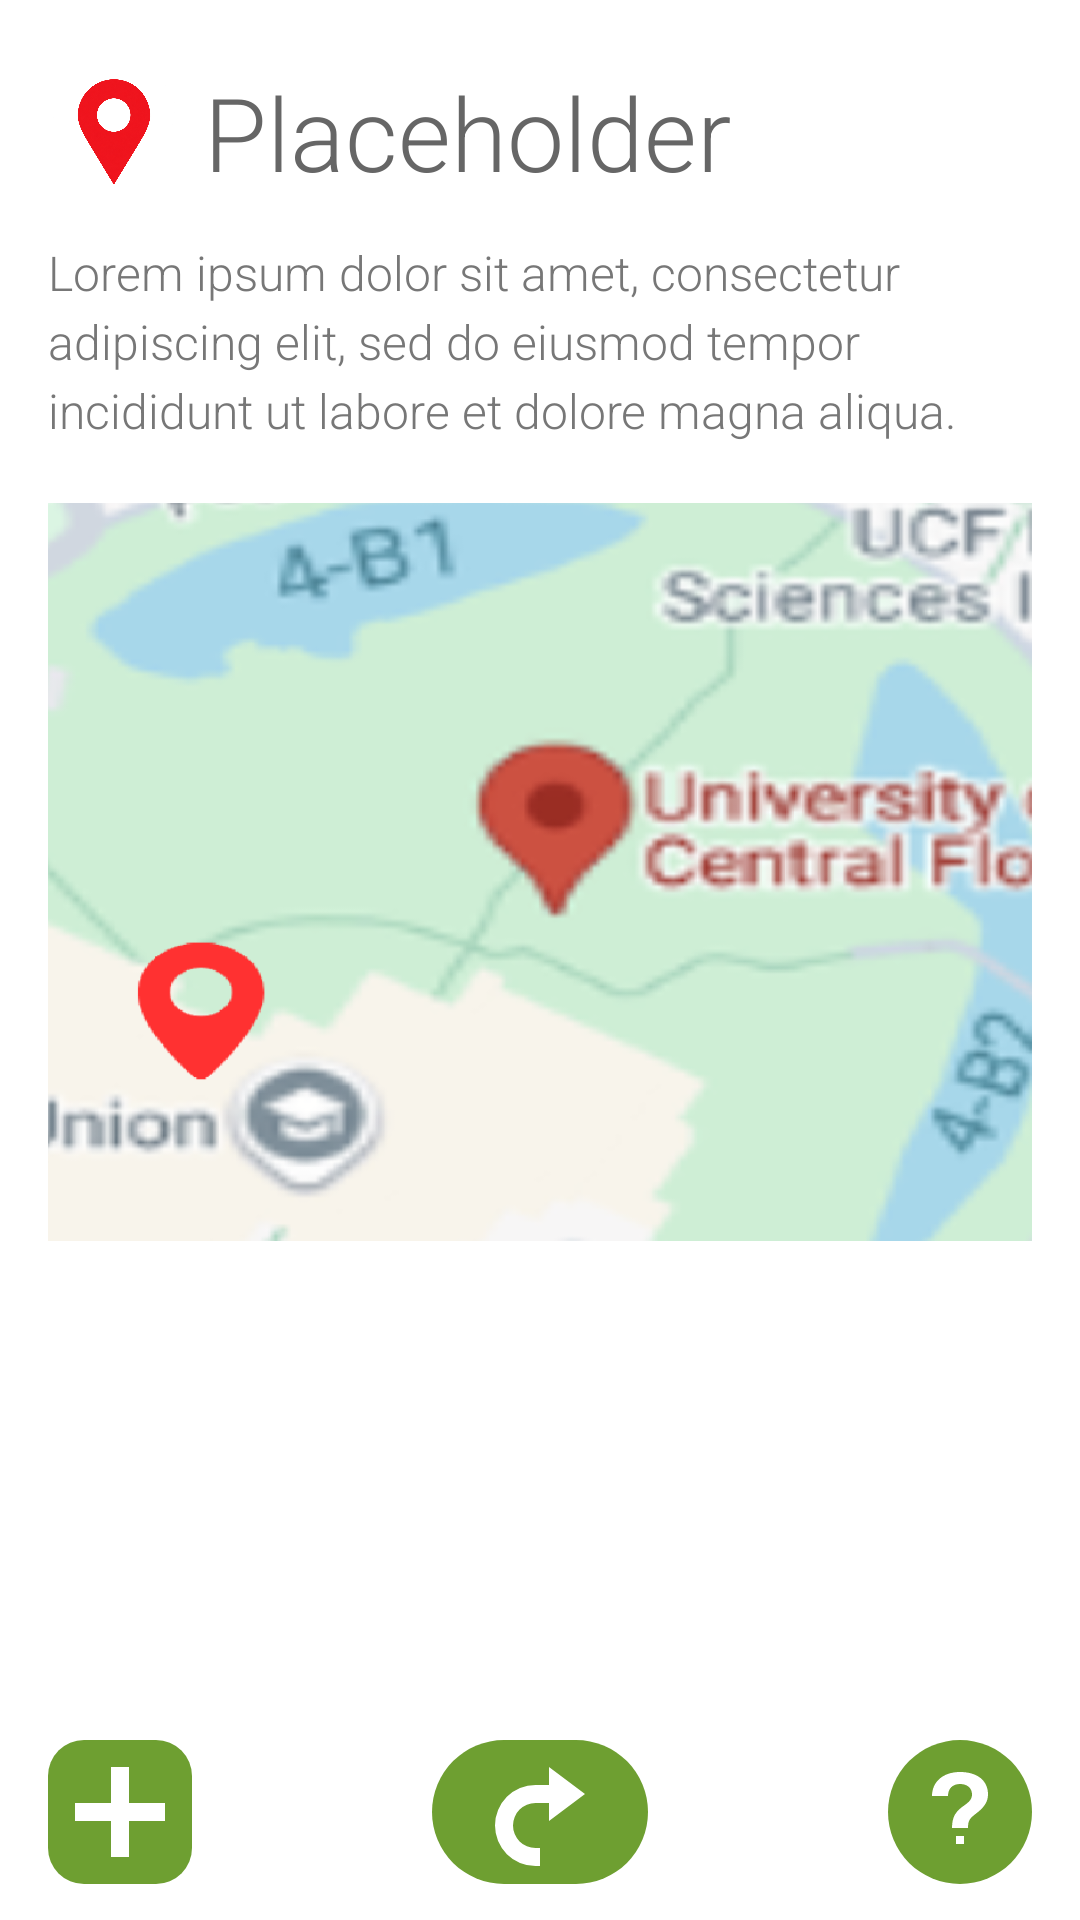

Screen size 1080*1920. Icon name, then its box in pixels as BBox(x1, y1, x2, y2):
Add a bin: BBox(48, 1740, 192, 1884)
Directions: BBox(432, 1740, 648, 1884)
Help: BBox(888, 1740, 1032, 1884)
location pin: BBox(78, 79, 150, 184)
